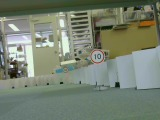speed_10: (88, 48, 105, 64)
